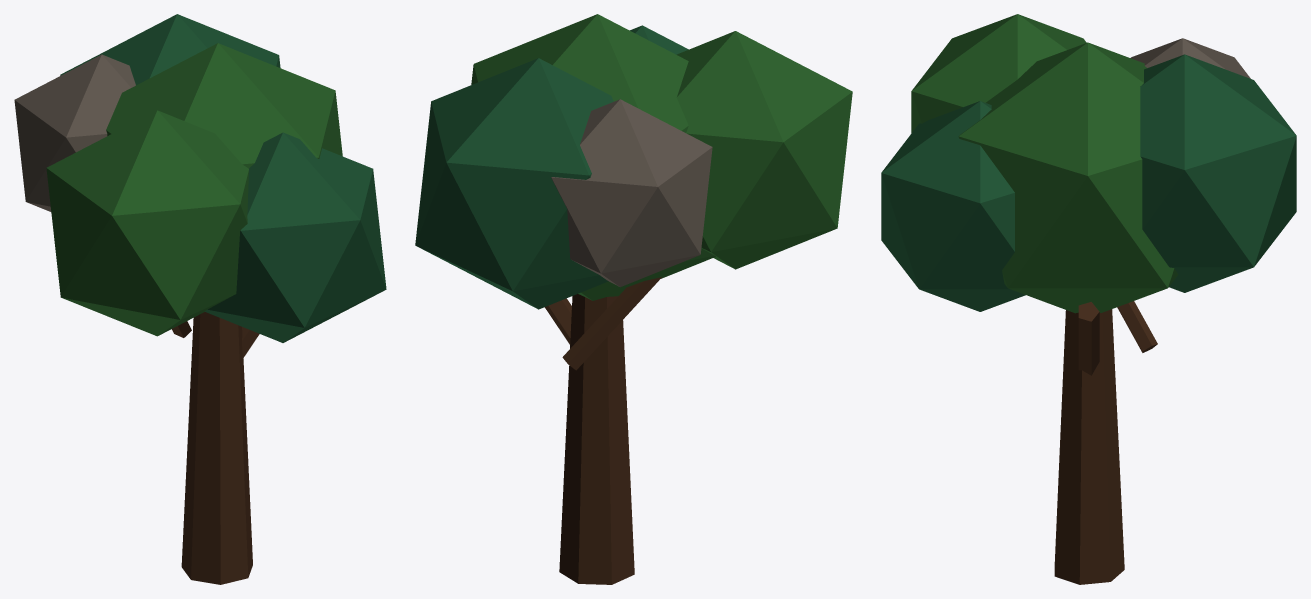
File: SM_GZ_tree_oak_dark.fbx
3 renders of one model, left to right at view 1: azimuth 30°, elevation 25°; view 2: azimuth 150°, elevation 25°; view 3: azimuth 270°, elevation 25°, orthographic. The views are drawn at different scales.
Visible parts, largest first — view 1: SM_GZ_tree_oak_dark; view 2: SM_GZ_tree_oak_dark; view 3: SM_GZ_tree_oak_dark.
Part boxes in pixels (left/top/right/bottom): SM_GZ_tree_oak_dark: left=14, top=14, right=386, bottom=584; SM_GZ_tree_oak_dark: left=415, top=14, right=852, bottom=584; SM_GZ_tree_oak_dark: left=881, top=14, right=1296, bottom=584.
Bounding box in the file's own units: 370 × 601 × 429.
